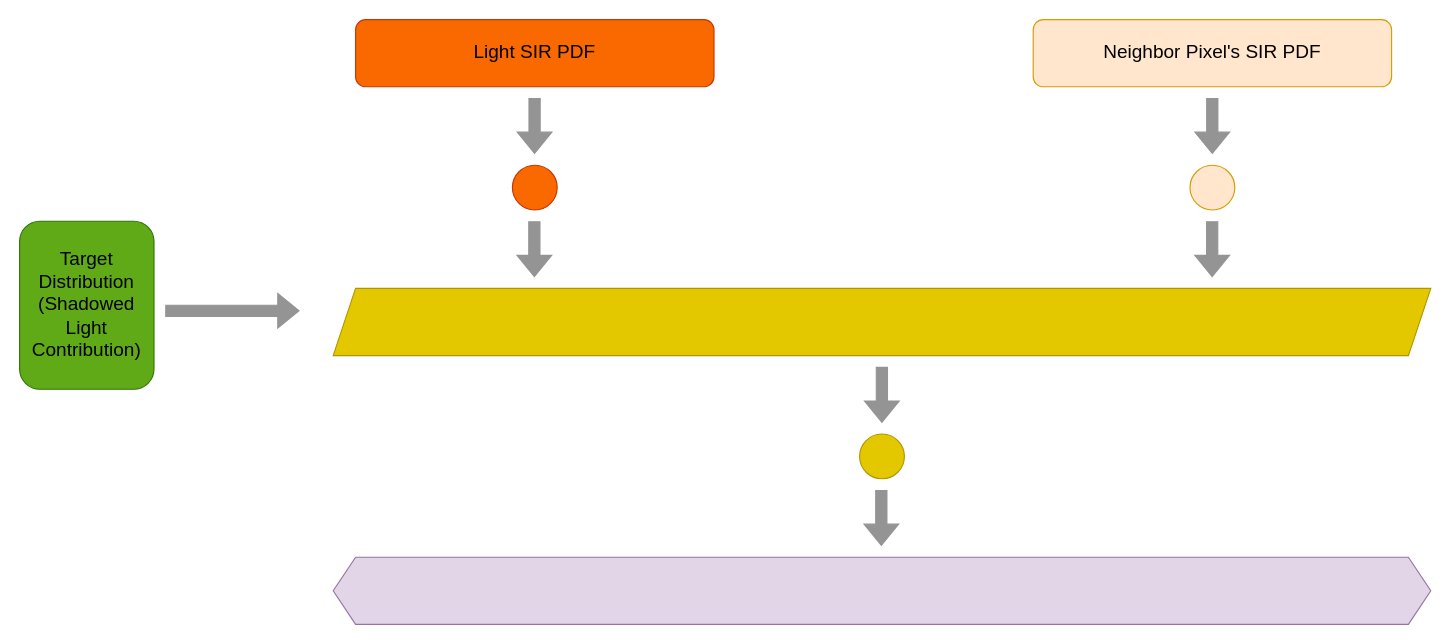
The diagram is 1450 pixels wide and 644 high, and some of its shapes have lost their labels. The shapes that lost their labels are listed below. From the top down, each one's centre as x and y in pixels, then its label:
[881,321]: Picking a target sample from proposal sample set
[881,590]: RIS Estimator
